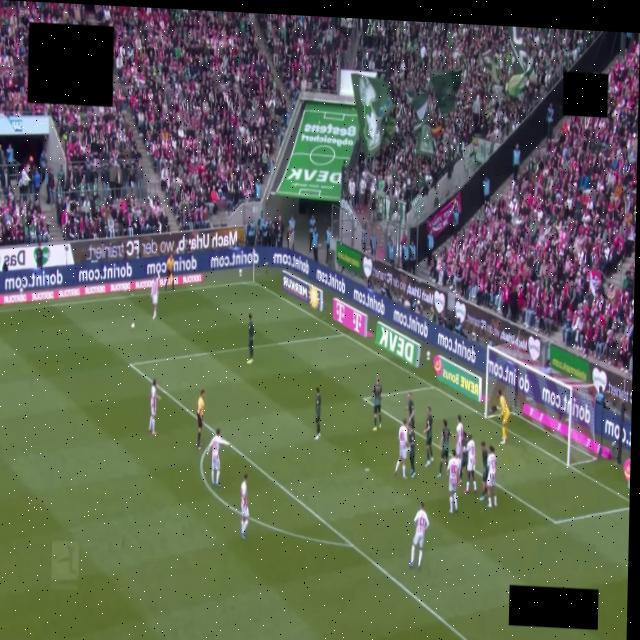ball: (131, 323, 134, 328)
player: (206, 429, 229, 487), (409, 503, 428, 569), (446, 450, 459, 514), (394, 418, 407, 478), (437, 420, 450, 477), (464, 434, 476, 493), (486, 446, 496, 507), (371, 377, 382, 431), (497, 390, 508, 444), (423, 407, 432, 467), (479, 441, 488, 501), (240, 473, 248, 539), (149, 378, 158, 434), (457, 432, 466, 483), (150, 277, 159, 320), (454, 415, 463, 457), (246, 314, 253, 364), (408, 428, 415, 477), (404, 393, 413, 428), (315, 387, 320, 440)
referee: (197, 390, 204, 450)
